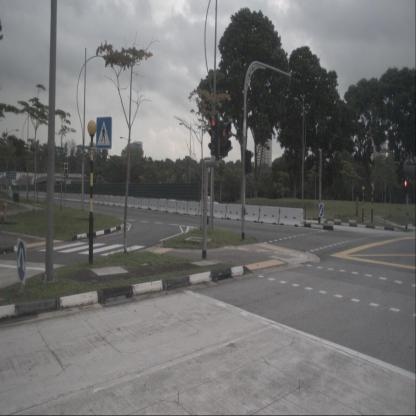movable_object-barrier: (279, 207, 304, 227), (258, 206, 280, 224), (240, 205, 260, 222), (210, 204, 227, 220), (226, 204, 243, 220), (198, 202, 212, 217), (186, 201, 200, 216), (176, 200, 188, 215), (166, 200, 178, 214), (148, 198, 158, 212), (157, 199, 167, 212), (140, 198, 150, 210), (125, 196, 134, 208), (120, 196, 128, 208), (133, 198, 142, 208), (103, 194, 110, 205), (114, 196, 121, 207), (98, 194, 104, 205), (85, 194, 91, 204), (94, 194, 100, 204), (108, 197, 114, 206), (74, 193, 79, 202), (89, 194, 94, 203), (78, 193, 82, 203), (82, 193, 86, 203), (61, 193, 65, 201), (54, 192, 58, 200), (70, 193, 74, 201), (67, 193, 71, 200), (58, 192, 61, 200), (44, 192, 48, 198), (64, 193, 67, 201), (36, 192, 40, 198), (42, 192, 45, 198), (39, 192, 42, 198)
movable_object-trafficcone: (354, 204, 358, 215)
